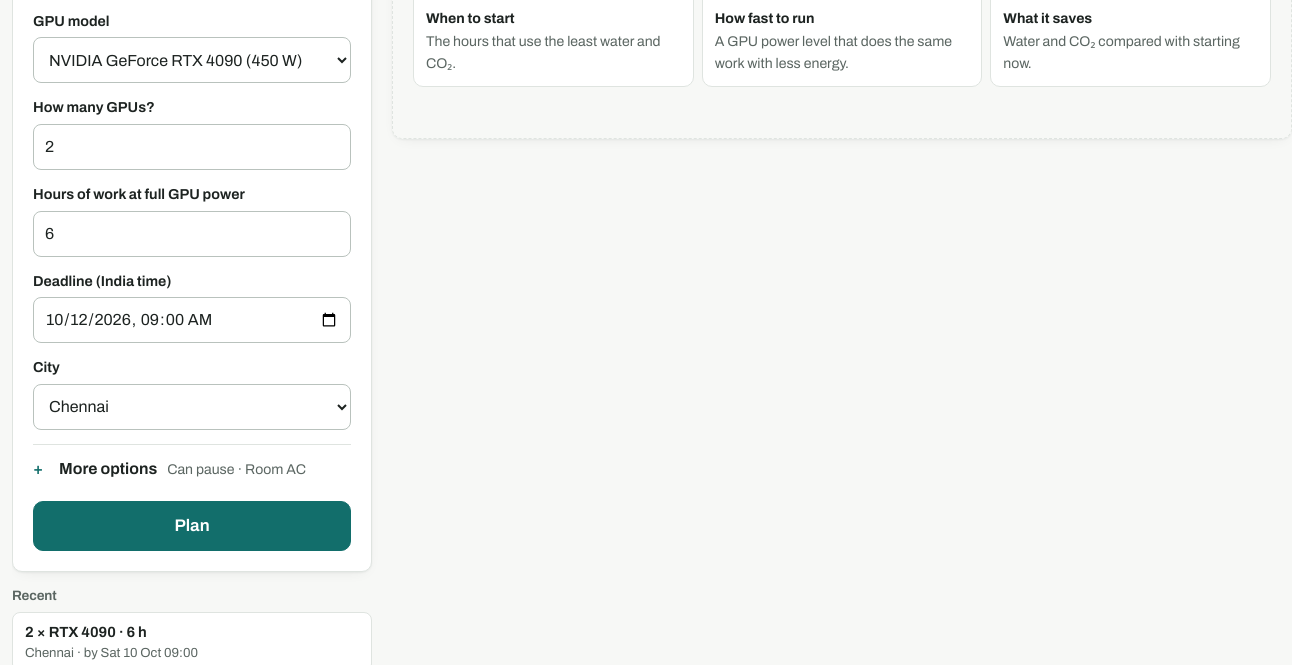
Test: PlanPage on a phone › puts the card first and the form under "Change job"
(page scrolled)
Click the button "Plan" at (192, 526), box [33,501,351,551]
(page scrolled)
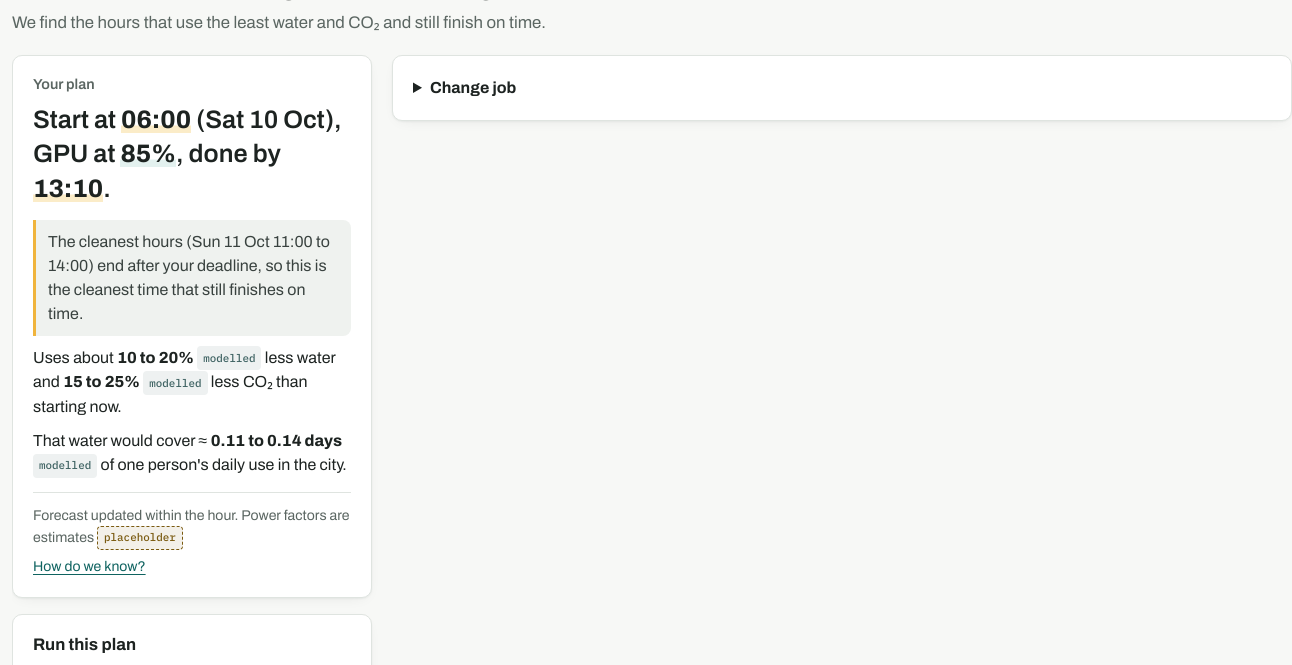
Result: the element "Your plan" is shown at [12,55,372,598]
Result: the text "Change job" is shown at [392,55,1291,121]
